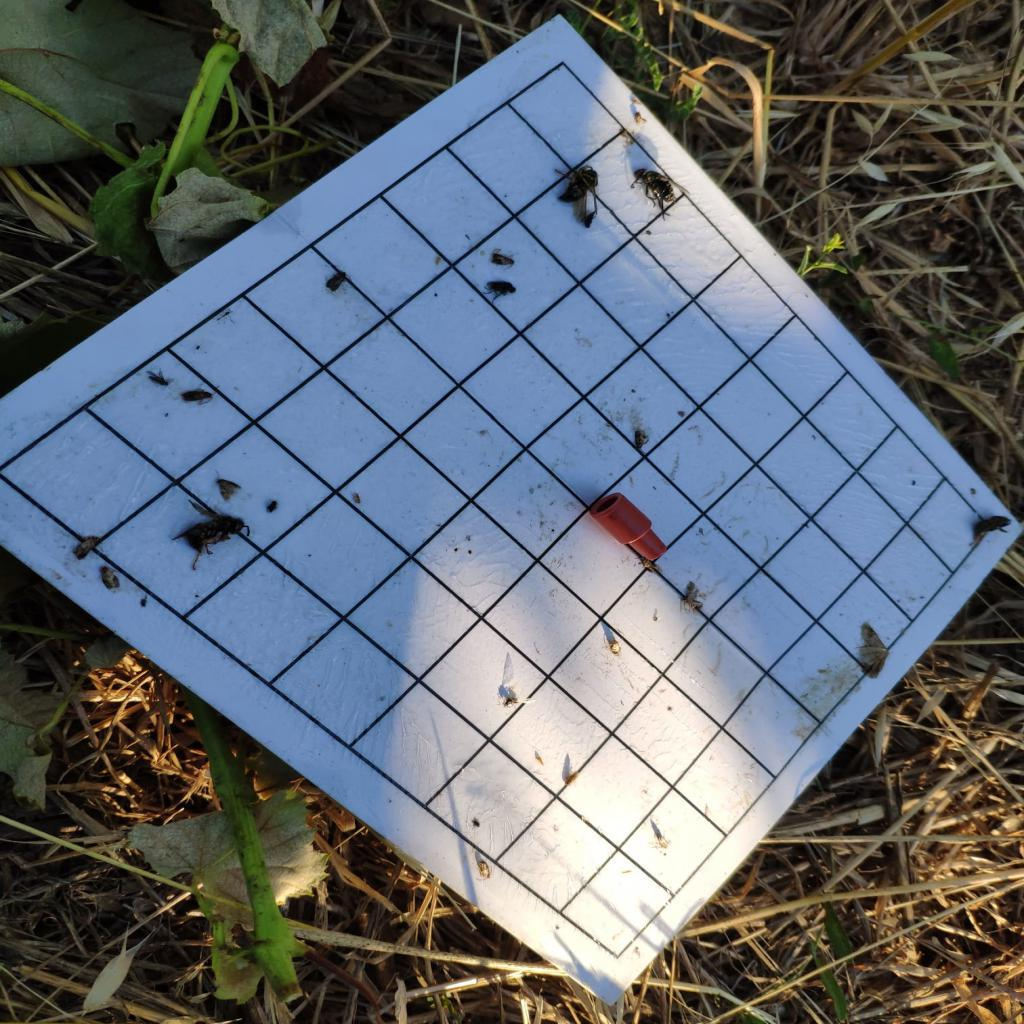grape_moth: (211, 468, 242, 502), (678, 579, 705, 615), (71, 534, 102, 562), (96, 562, 122, 590), (488, 248, 517, 270), (635, 554, 663, 574), (650, 829, 672, 851), (472, 858, 492, 882), (632, 426, 650, 452), (560, 769, 582, 789), (604, 637, 624, 656)
